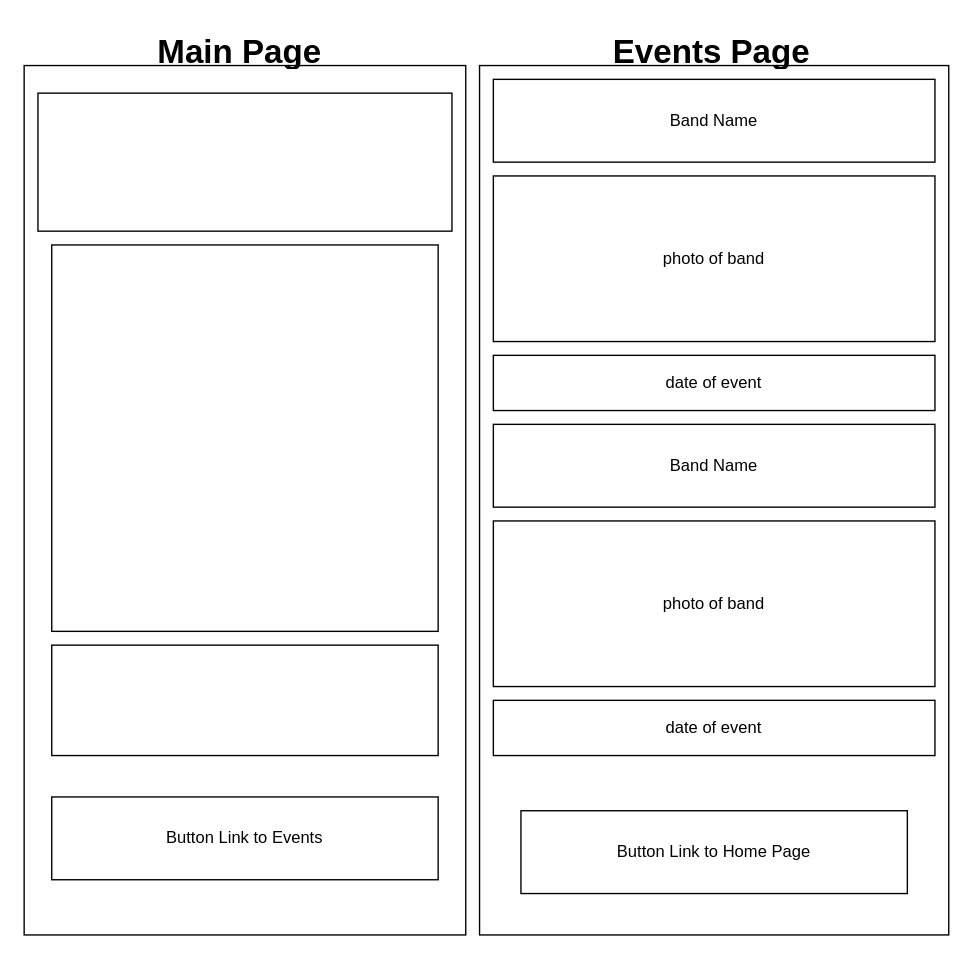
This 973x959 diagram has some shape labels left out. The shapes that lost their labels are listed below. From the top down, each one's centre as x and y in pixels, then its label:
At pixel 244 161: "Title".
At pixel 244 437: "Photo of Event Location".
At pixel 244 700: "Phone Number Address Web Site".
